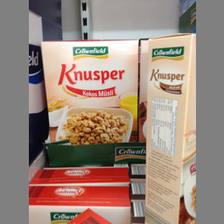cereal: (41, 40, 140, 145)
